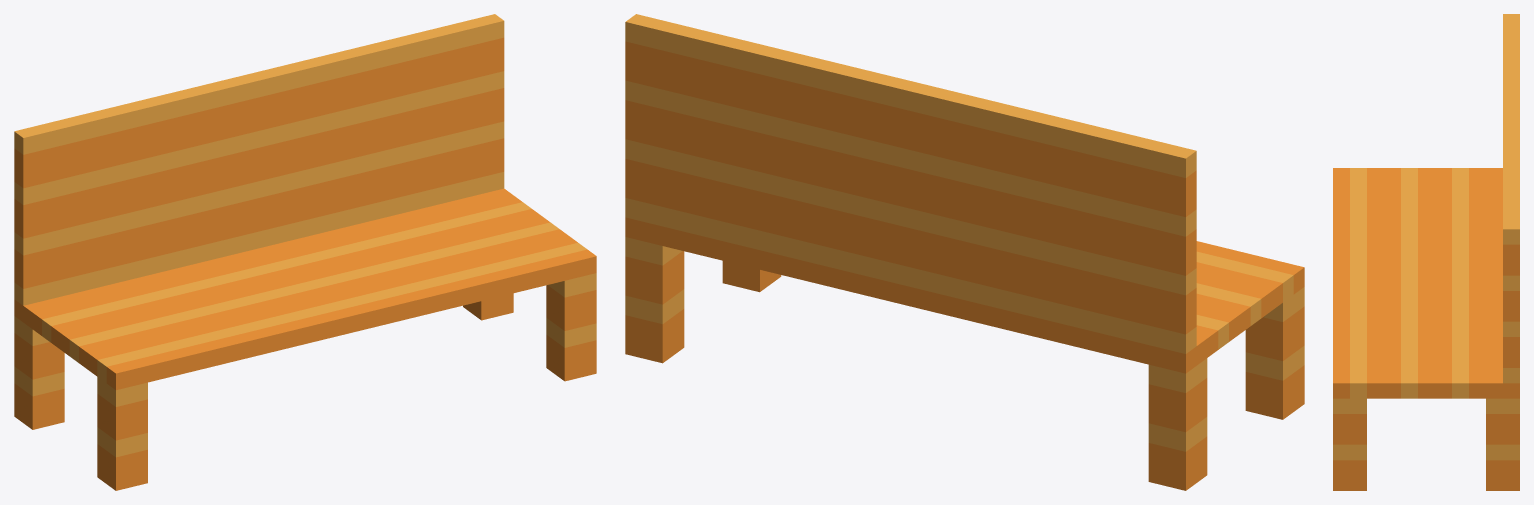
The model's file is banca.obj.
The picture shows the model from 3 angles, left to right: view 1: azimuth 30°, elevation 25°; view 2: azimuth 150°, elevation 25°; view 3: azimuth 270°, elevation 25°; orthographic projection. The views are drawn at different scales.
Parts seen in each view (by area): view 1: banca; view 2: banca; view 3: banca.
Part boxes in pixels (x1,y1,x2,y2): banca: (14,14,596,490); banca: (625,14,1304,490); banca: (1333,14,1519,490).
Bounding box in the file's own units: 3 × 1.7 × 1.1.
